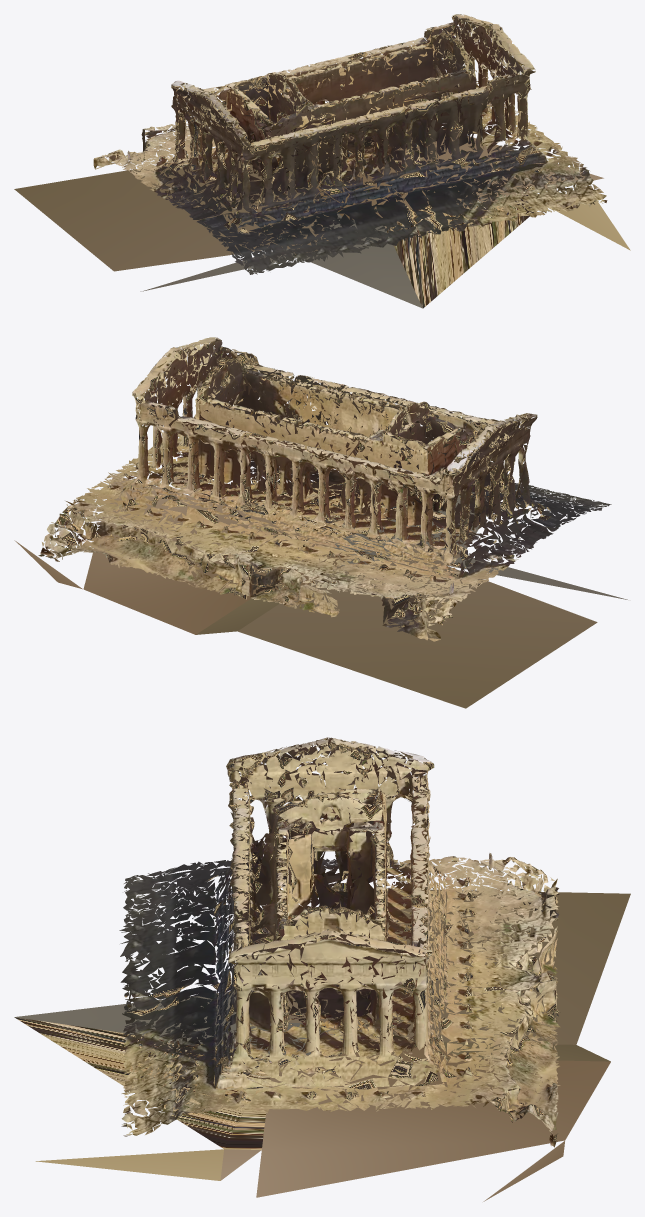
The model's file is bld_temple.glb.
3 renders of one model, top to bottom at view 1: azimuth 30°, elevation 25°; view 2: azimuth 150°, elevation 25°; view 3: azimuth 270°, elevation 25°, orthographic. The views are drawn at different scales.
Parts seen in each view (by area): view 1: temple; view 2: temple; view 3: temple.
Boxes of the visible parts, x1,y1,x2,y2 form: temple: (14,14,630,308); temple: (14,337,627,708); temple: (14,737,630,1201).
Bounding box in the file's own units: 46.97 × 14.64 × 38.67.
1 material, 1 textured.
